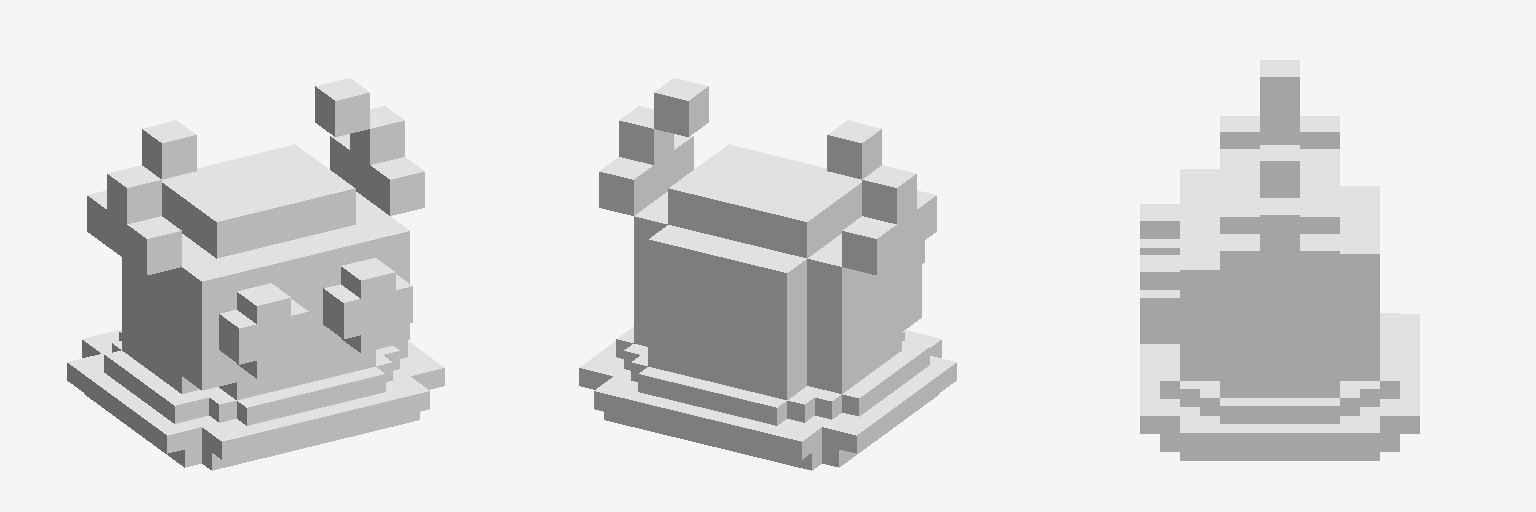
The model's file is PlayerDiablo2.obj.
3 views of the same model, side by side, from view 1: azimuth 30°, elevation 25°; view 2: azimuth 150°, elevation 25°; view 3: azimuth 270°, elevation 25° (orthographic).
Parts seen in each view (by area): view 1: object 1; view 2: object 1; view 3: object 1.
Boxes of the visible parts, box(x1,y1,x2,y2) form: object 1: box(67, 78, 444, 470); object 1: box(579, 78, 956, 470); object 1: box(1140, 60, 1419, 460).
Bounding box in the file's own units: 1.6 × 1.6 × 1.4.